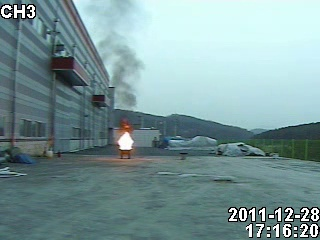fire: (117, 128, 134, 152)
smoke: (95, 2, 143, 124)
